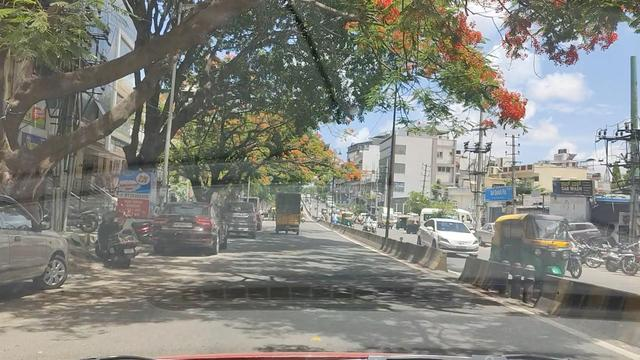HMV: (274, 193, 301, 232)
LMV: (151, 201, 221, 248)
